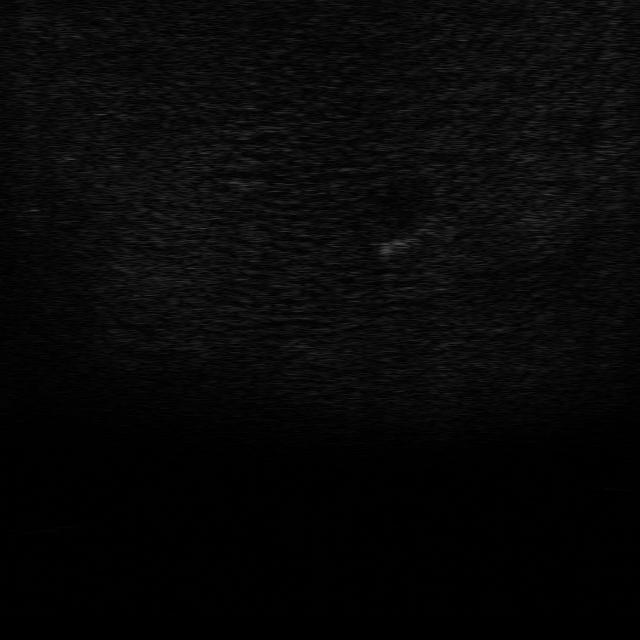plane: (372, 223, 437, 261)
